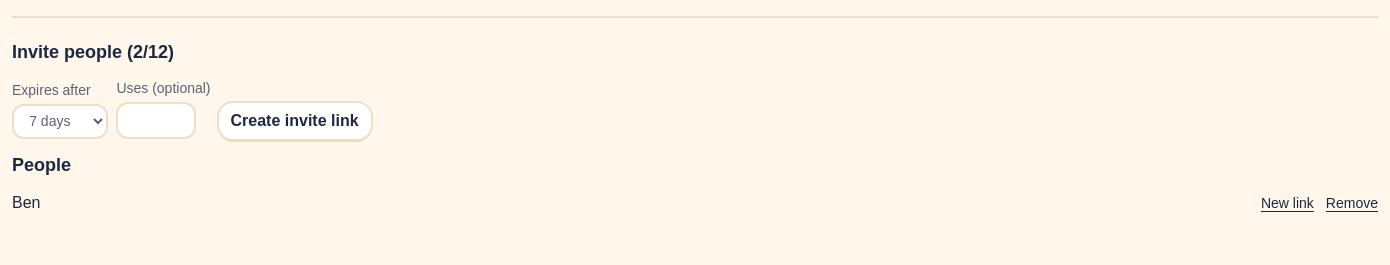
shows the server's reason when an invite cannot be made
Click the button "Create invite link".
click(294, 121)  # box x1=218 y1=103 x2=370 y2=139
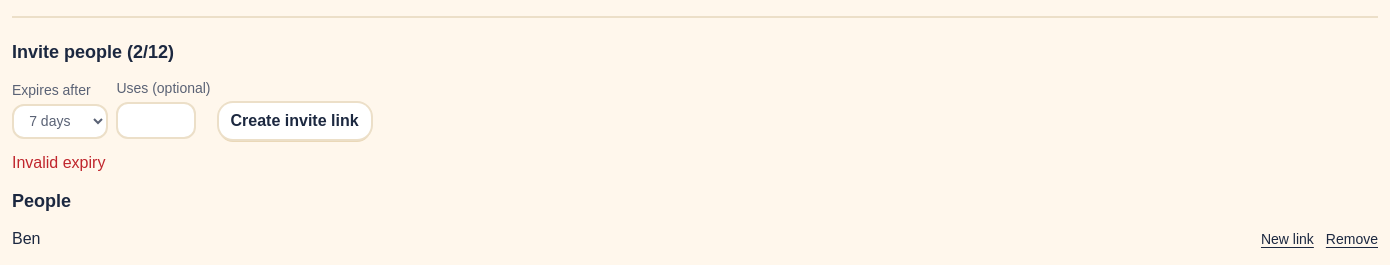
Now the message reads "Invalid expiry", box x1=12 y1=154 x2=105 y2=171
